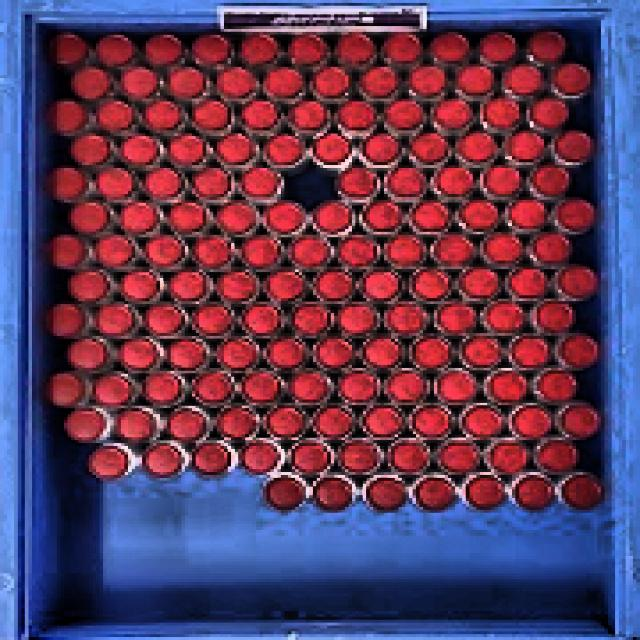vial: (413, 478, 458, 509), (538, 438, 580, 471), (91, 305, 138, 334), (511, 406, 551, 440), (85, 447, 127, 479), (362, 202, 406, 232), (414, 406, 454, 439), (42, 34, 87, 63), (166, 271, 209, 301), (265, 478, 304, 511), (560, 334, 600, 366), (340, 442, 380, 474), (432, 98, 474, 128), (553, 132, 595, 162), (44, 238, 86, 268), (120, 67, 159, 99), (44, 169, 87, 198), (65, 273, 111, 300), (555, 64, 595, 95), (512, 337, 552, 368), (65, 409, 105, 440), (71, 68, 112, 98), (216, 204, 257, 234), (42, 374, 83, 404), (437, 443, 478, 473), (142, 237, 184, 266), (70, 200, 109, 231), (382, 32, 422, 62), (385, 304, 425, 334), (67, 338, 107, 368), (116, 410, 156, 440), (562, 476, 602, 506), (464, 478, 504, 508), (433, 235, 474, 264), (292, 306, 333, 335), (363, 337, 404, 366), (142, 445, 183, 474), (428, 32, 472, 59), (168, 134, 205, 166), (243, 236, 280, 268), (408, 133, 446, 164), (414, 336, 452, 367), (560, 407, 602, 435), (360, 66, 399, 96), (218, 68, 257, 98), (244, 304, 283, 334), (462, 338, 501, 368), (456, 65, 496, 94), (313, 204, 353, 233), (192, 238, 232, 267), (387, 235, 422, 268), (410, 65, 446, 97), (487, 445, 528, 473), (264, 133, 301, 164), (94, 237, 131, 268), (536, 300, 573, 331), (169, 410, 206, 441), (314, 478, 351, 509), (44, 102, 82, 132), (215, 134, 253, 164), (505, 133, 543, 163), (242, 168, 280, 198), (510, 200, 548, 230), (194, 306, 232, 336), (268, 337, 306, 367), (96, 374, 134, 404), (217, 408, 255, 438), (316, 407, 354, 437), (365, 406, 403, 436), (193, 445, 231, 475), (166, 339, 205, 368), (384, 100, 424, 128), (267, 272, 307, 300), (367, 478, 402, 510), (292, 372, 328, 403), (341, 371, 377, 402), (169, 201, 206, 231), (438, 371, 475, 401), (517, 477, 554, 507), (337, 171, 378, 198), (506, 65, 544, 94), (191, 101, 229, 130), (336, 100, 374, 129), (535, 166, 573, 195), (459, 271, 497, 300), (315, 338, 353, 367), (144, 374, 182, 403), (290, 100, 329, 128), (531, 98, 570, 126), (71, 135, 110, 163), (458, 134, 497, 162), (144, 306, 183, 334), (289, 444, 328, 472), (266, 67, 302, 97), (482, 167, 522, 194), (559, 201, 595, 231), (485, 236, 525, 263), (219, 272, 256, 301), (242, 34, 280, 62), (169, 69, 207, 97), (483, 99, 521, 127), (530, 234, 568, 262), (338, 305, 376, 333), (239, 101, 278, 128), (121, 272, 160, 299), (489, 374, 528, 401), (119, 338, 154, 368), (464, 407, 499, 437), (336, 34, 372, 63), (530, 31, 566, 60), (313, 67, 349, 96), (97, 169, 133, 198), (291, 237, 327, 266), (242, 373, 278, 402), (144, 100, 181, 128), (312, 134, 349, 162), (362, 135, 399, 163), (390, 444, 427, 472), (540, 372, 578, 399), (122, 202, 156, 232), (267, 201, 301, 231), (462, 200, 496, 230), (509, 268, 543, 298), (388, 372, 423, 401), (317, 272, 353, 300), (365, 272, 401, 300), (436, 304, 472, 332), (218, 338, 254, 366), (194, 374, 230, 402), (268, 408, 304, 436), (386, 168, 423, 195), (411, 271, 449, 297), (242, 444, 276, 473), (98, 34, 133, 62), (97, 101, 132, 129), (414, 203, 449, 231), (340, 238, 375, 266), (560, 268, 595, 296), (48, 306, 83, 334), (190, 34, 227, 60), (146, 35, 180, 63), (122, 134, 156, 162), (487, 304, 522, 331), (437, 168, 473, 194), (292, 34, 325, 62), (194, 170, 228, 197), (481, 34, 516, 60), (145, 170, 178, 197)
